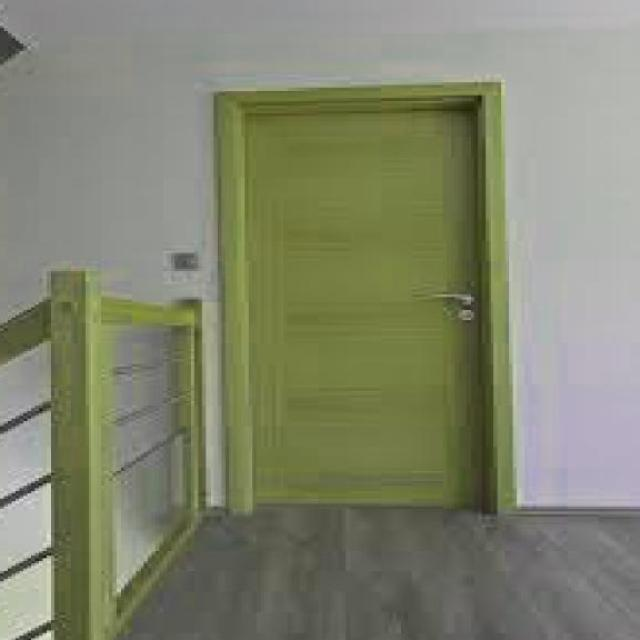door: (235, 97, 482, 510)
